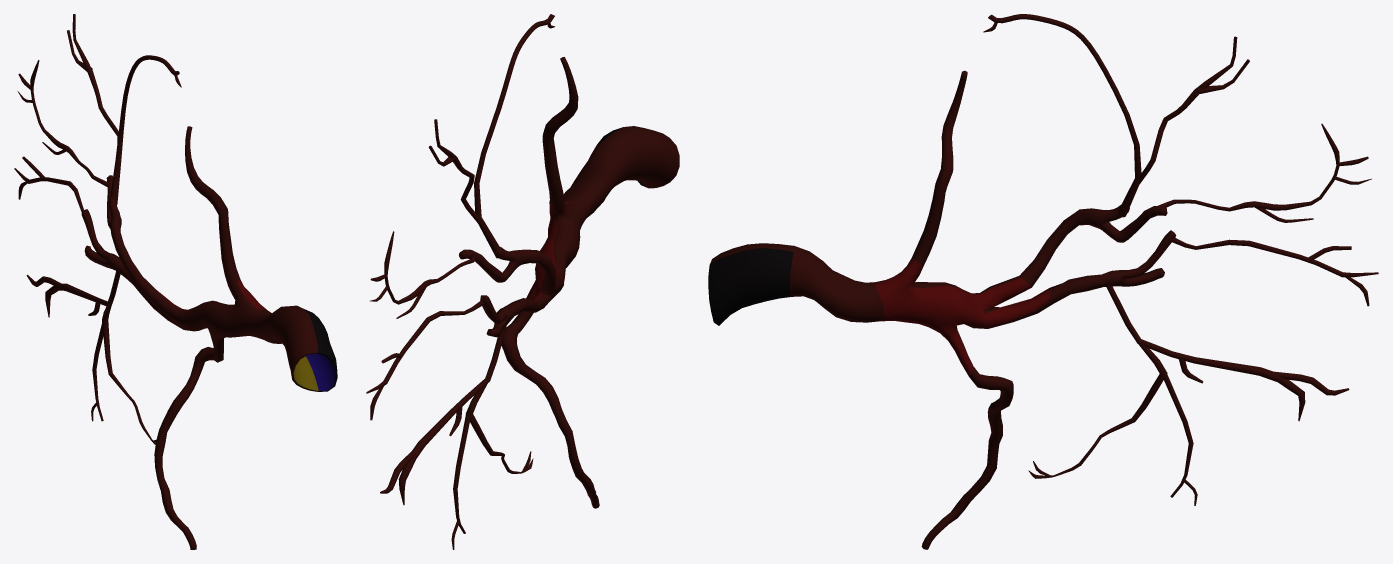
The model's file is Vena_Corte.glb.
3 views of the same model, side by side, from view 1: azimuth 30°, elevation 25°; view 2: azimuth 150°, elevation 25°; view 3: azimuth 270°, elevation 25° (orthographic). The views are drawn at different scales.
Visible parts, largest first — view 1: VENA_CORTE; view 2: VENA_CORTE; view 3: VENA_CORTE.
Boxes of the visible parts, <box> form: VENA_CORTE: <box>14,14,337,549</box>; VENA_CORTE: <box>366,14,679,549</box>; VENA_CORTE: <box>708,14,1378,549</box>.
Size of the model in its own units: 0.4088 by 2.16 by 2.42.
Materials: 1 (1 with a texture image).
